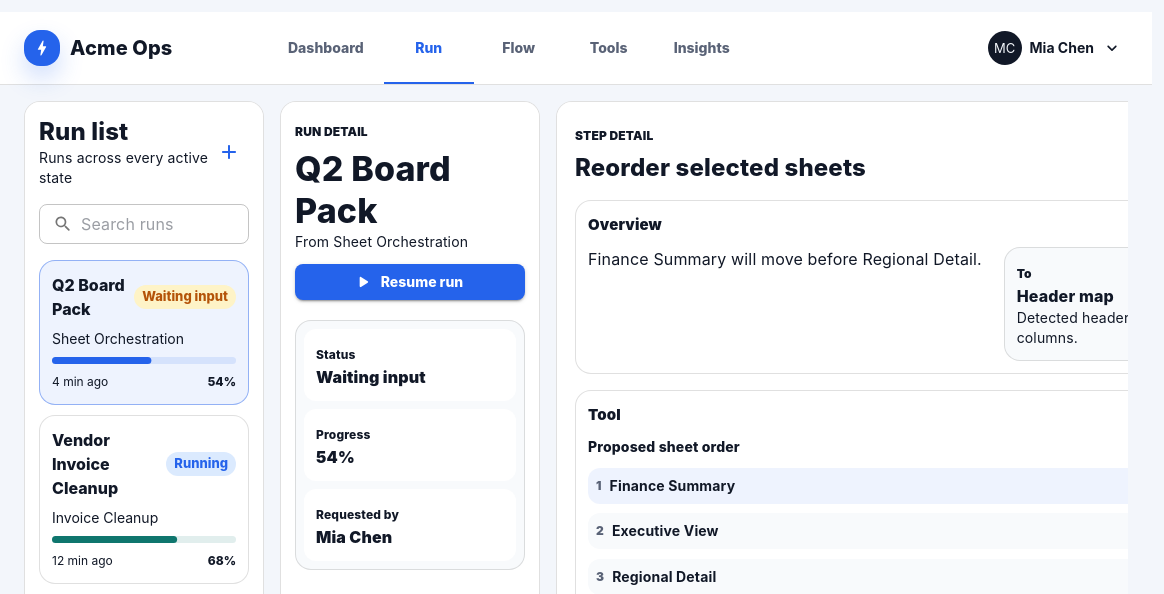
Test case: App › shows the insights metrics page
Click the tab "Insights" at (702, 48), box [654,12,750,84]
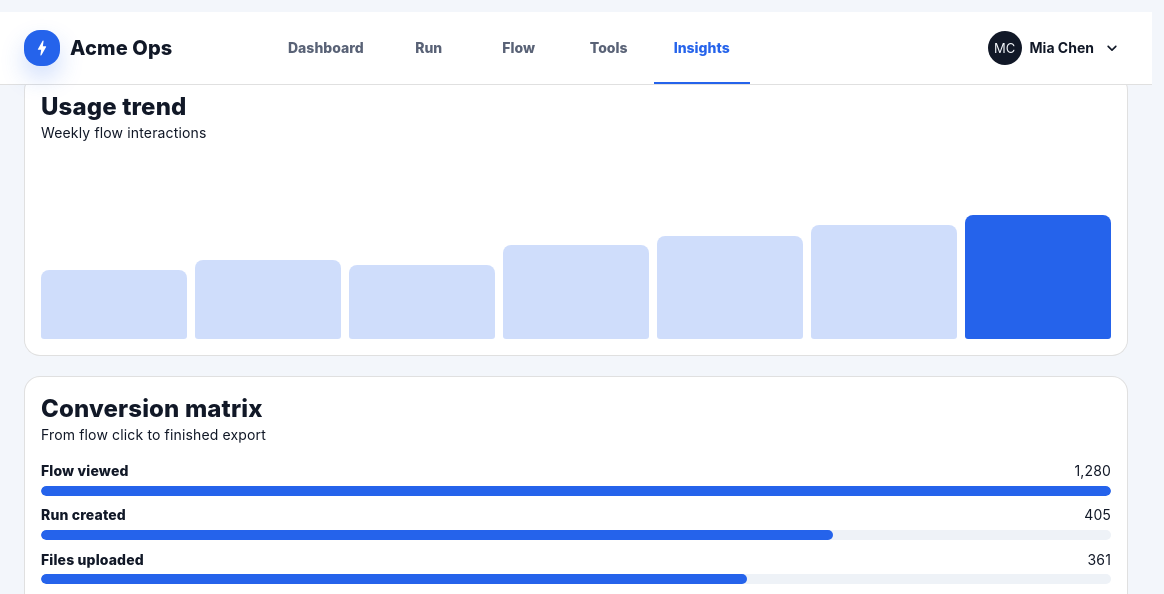
Expected: the heading "Conversion matrix" is shown, [41,394,263,423]
